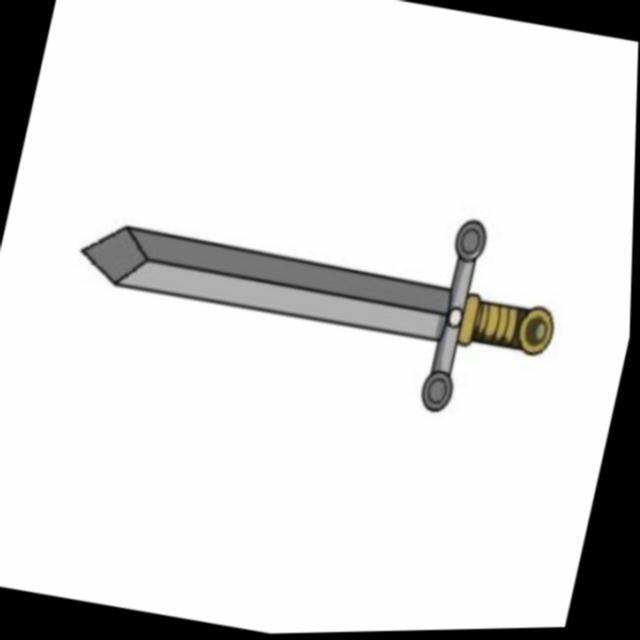weapon: (57, 146, 578, 439)
